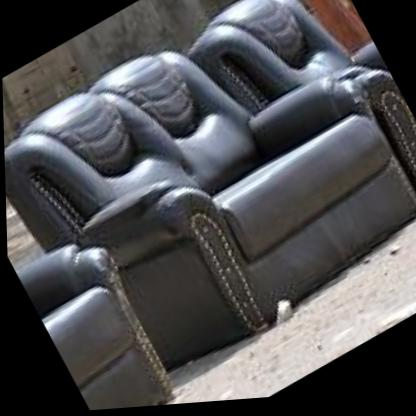Sofa: (0, 0, 416, 416), (175, 0, 416, 296)
